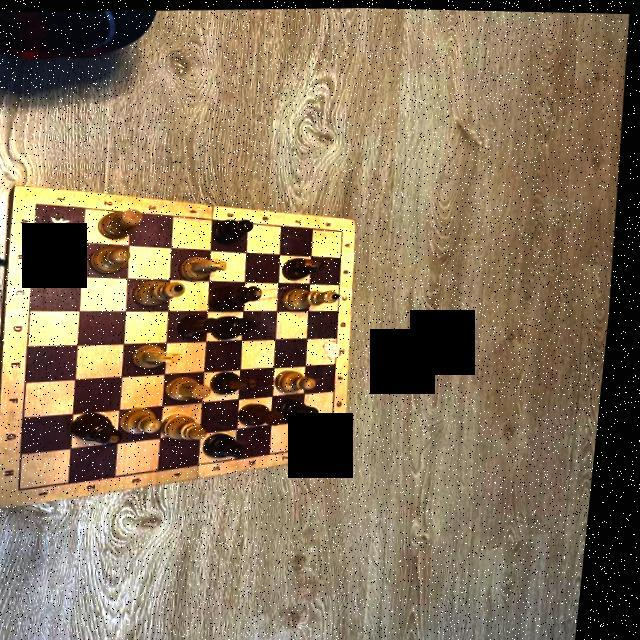chess-table-corners: (340, 224, 353, 233), (22, 484, 36, 492), (34, 199, 47, 207), (335, 438, 346, 445)
